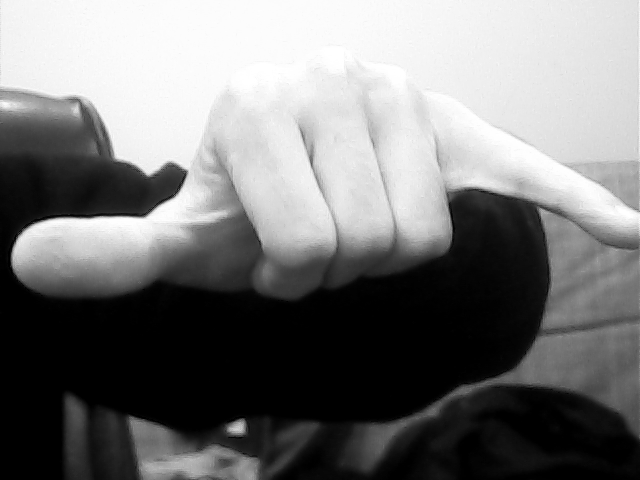aloha: (7, 45, 639, 312)
